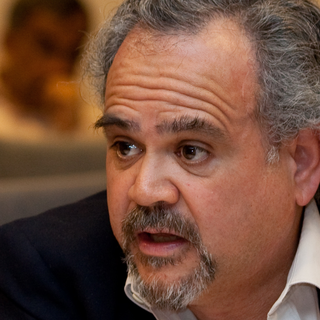eye: (172, 138, 217, 164), (107, 134, 146, 162)
